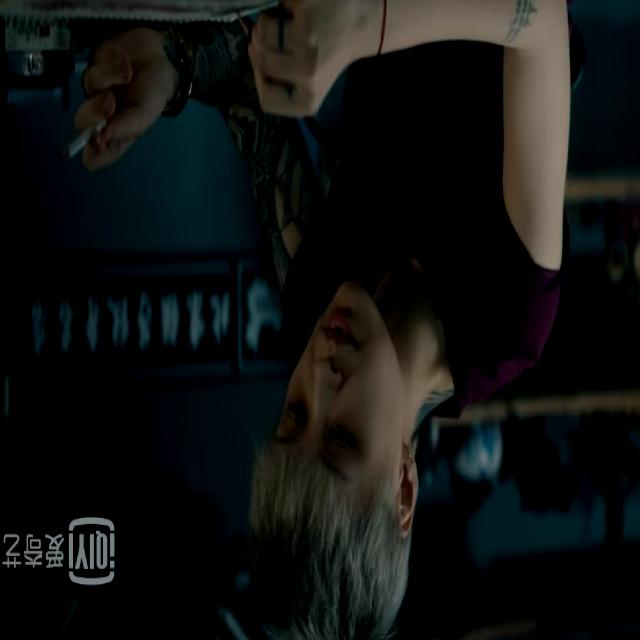smoke: (50, 110, 84, 178)
